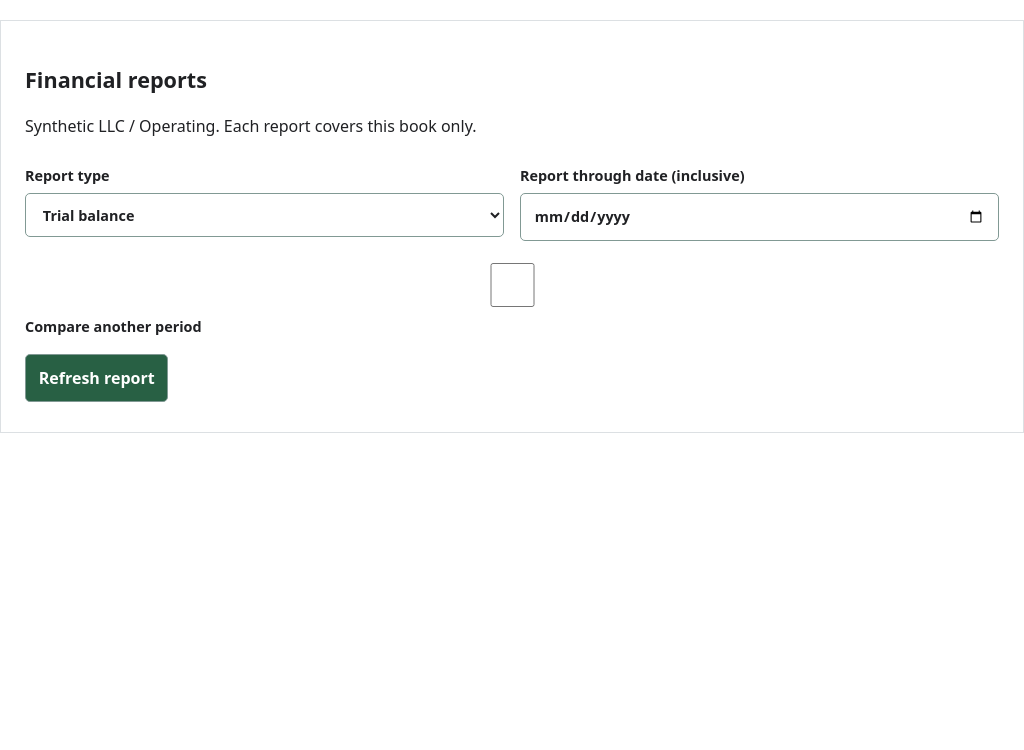
Test: financial report review › hides prior data on error 403 without leaking backend text
This screenshot has width=1024, height=750.
Type "2026-01-31" into the date field labelled "Report through date (inclusive)" at (760, 217), box 520,193 -> 999,240
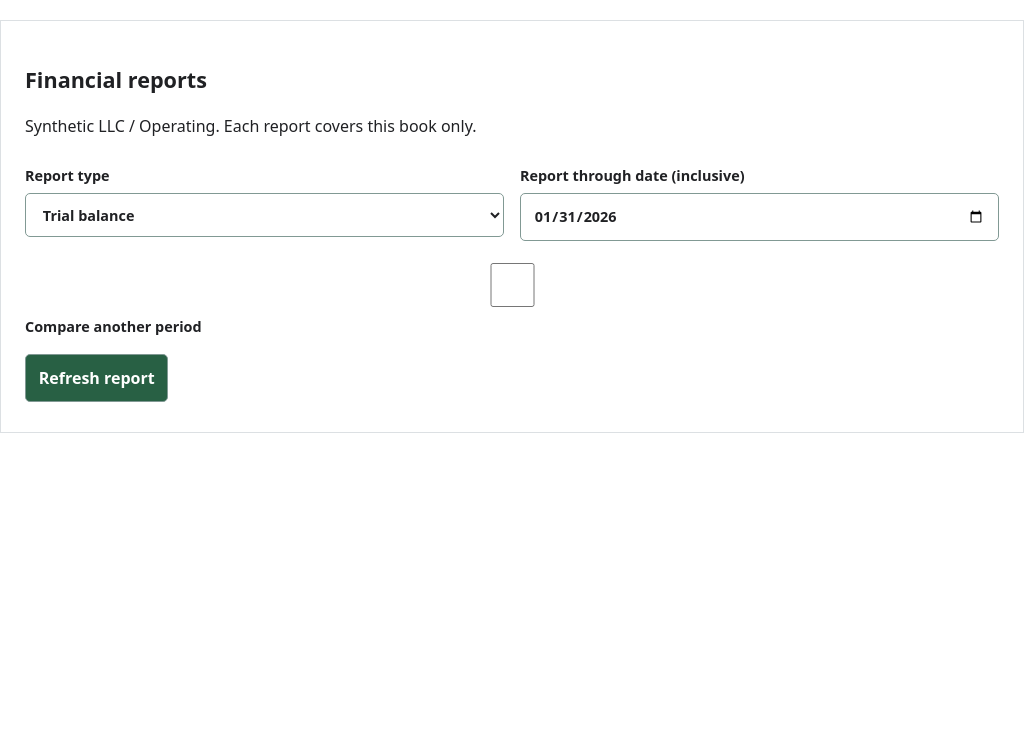
Click the button "Refresh report" at (97, 378), box 25,354 -> 168,402
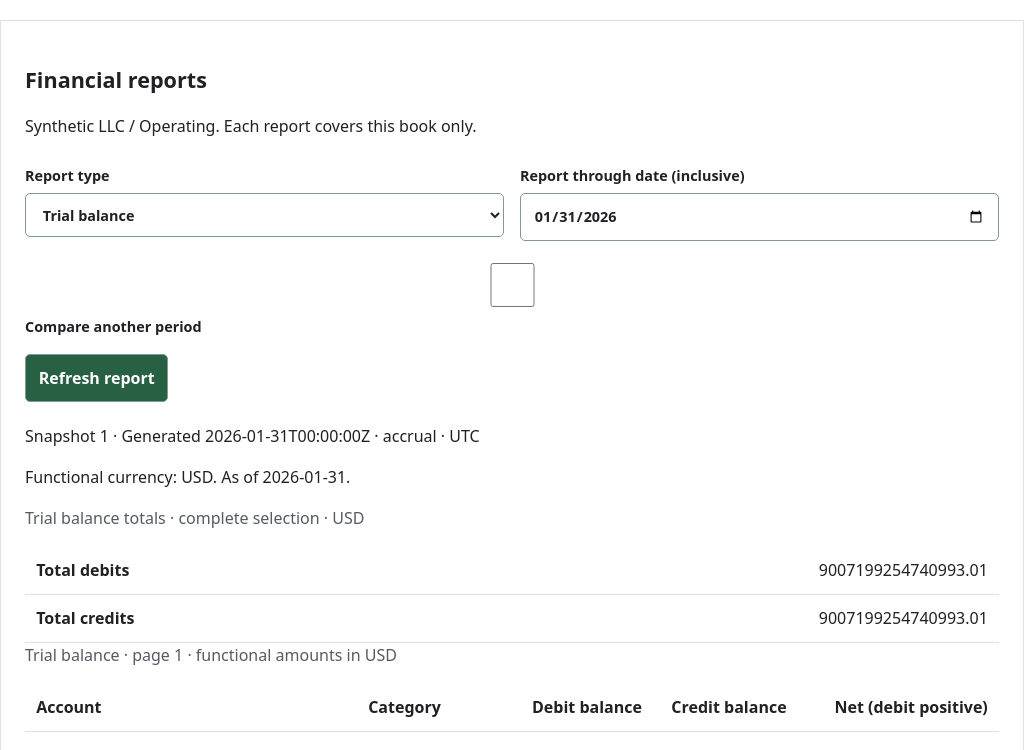
Now the text "Snapshot 1 · Generated 2026-01-31T00:00:00Z · accrual · UTC" is shown, box 25,425 -> 480,447
Click the button "Refresh report" at (97, 378), box 25,354 -> 168,402
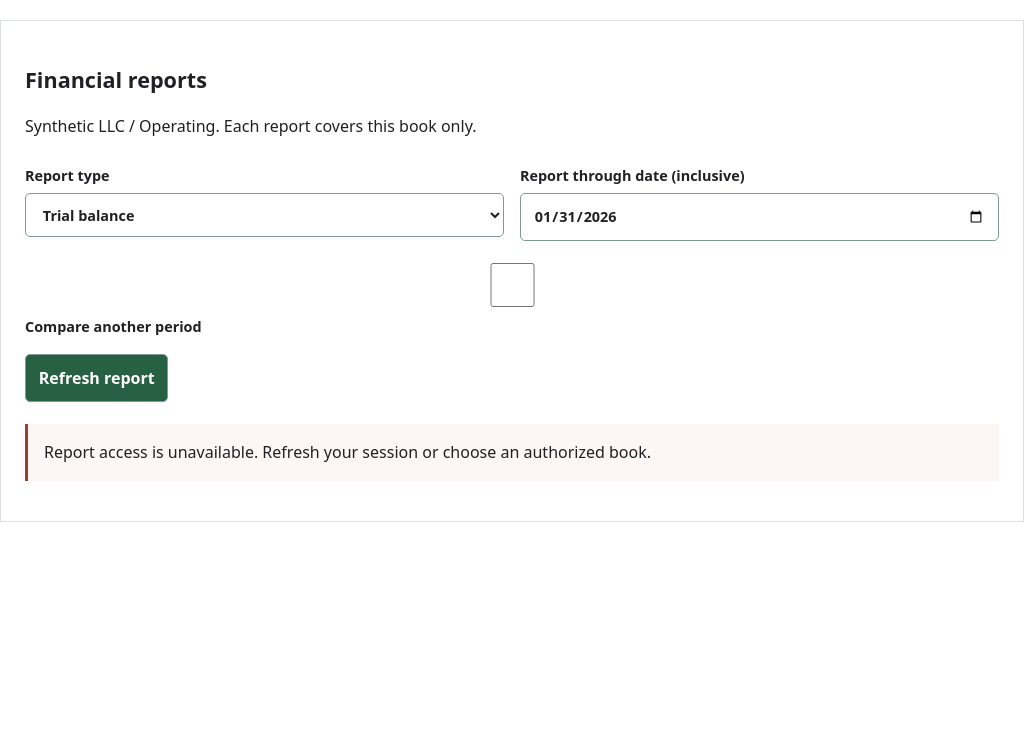
Now the message is shown, box 25,424 -> 999,481
Now the text "Snapshot 1" is gone
Now the text "9007199254740993.01" is not shown
